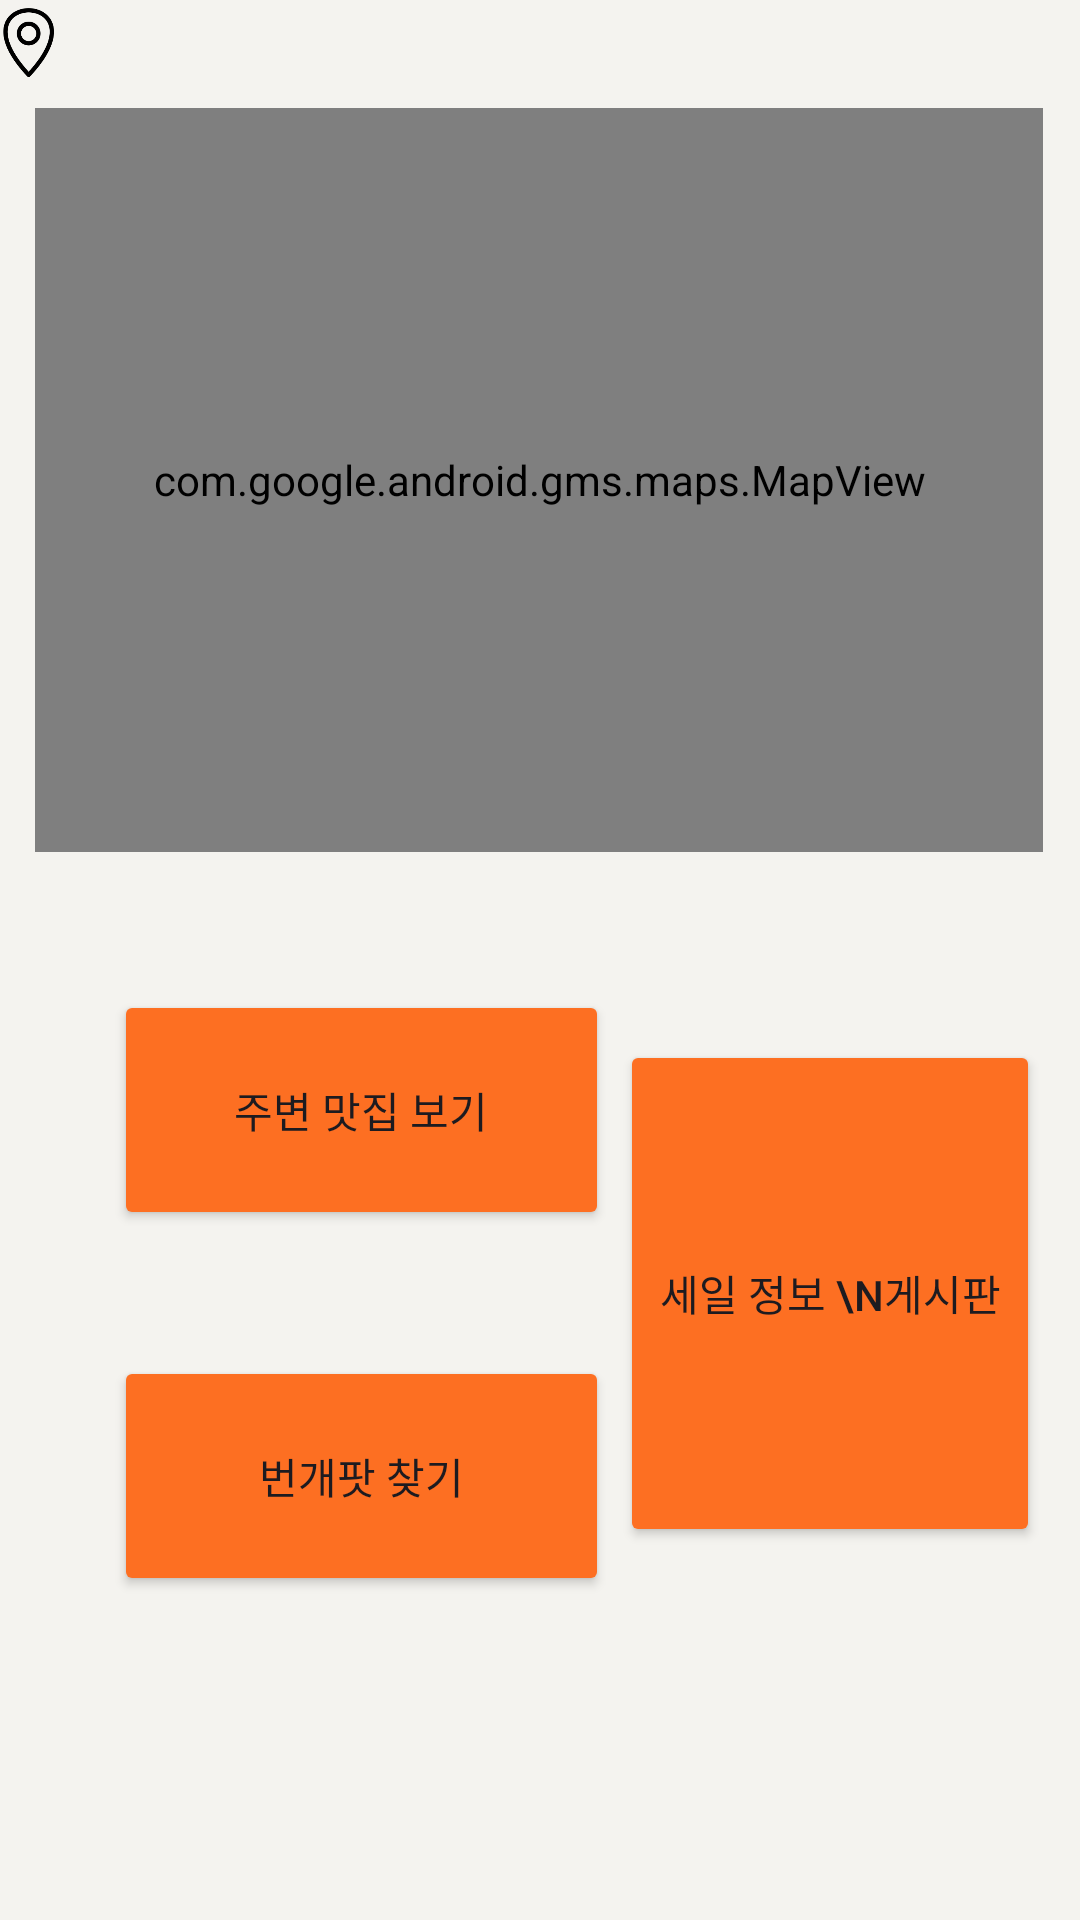

Locate icon controls on the screen. Image size 1080w x 1920h, boxes as (x1, y1, x2, y2).
location: (3, 8, 54, 77)
